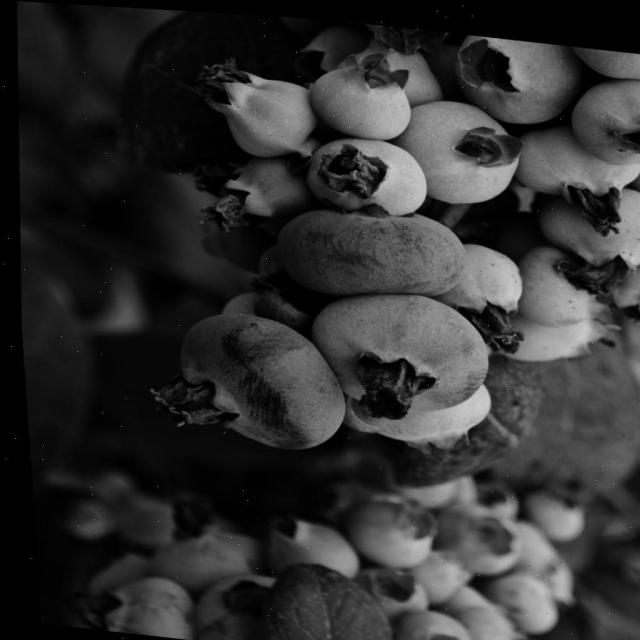RipeBlueBerry: (162, 302, 349, 454), (263, 191, 469, 305)
Semi-RipeBlueBerry: (303, 278, 494, 418)
UnripeBlueBerry: (396, 89, 530, 208), (448, 28, 590, 126), (299, 130, 429, 218), (528, 173, 640, 273), (301, 45, 415, 141), (207, 64, 313, 159), (75, 569, 188, 639), (432, 234, 523, 320), (564, 65, 640, 162)
